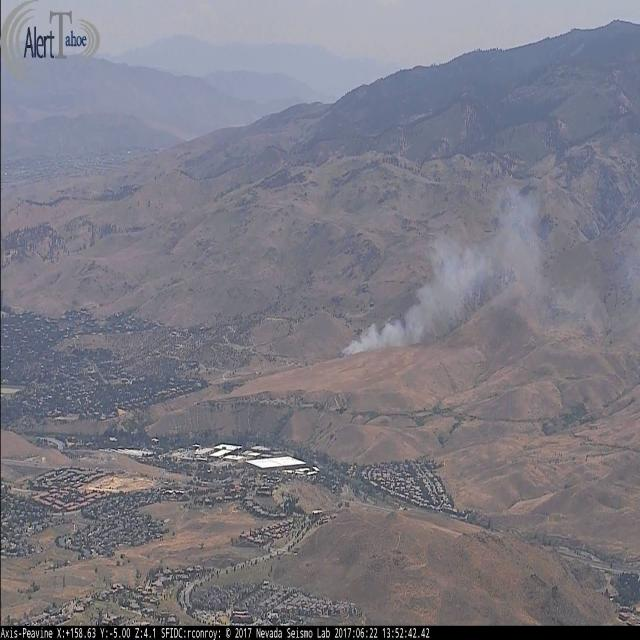smoke: (338, 225, 489, 362)
